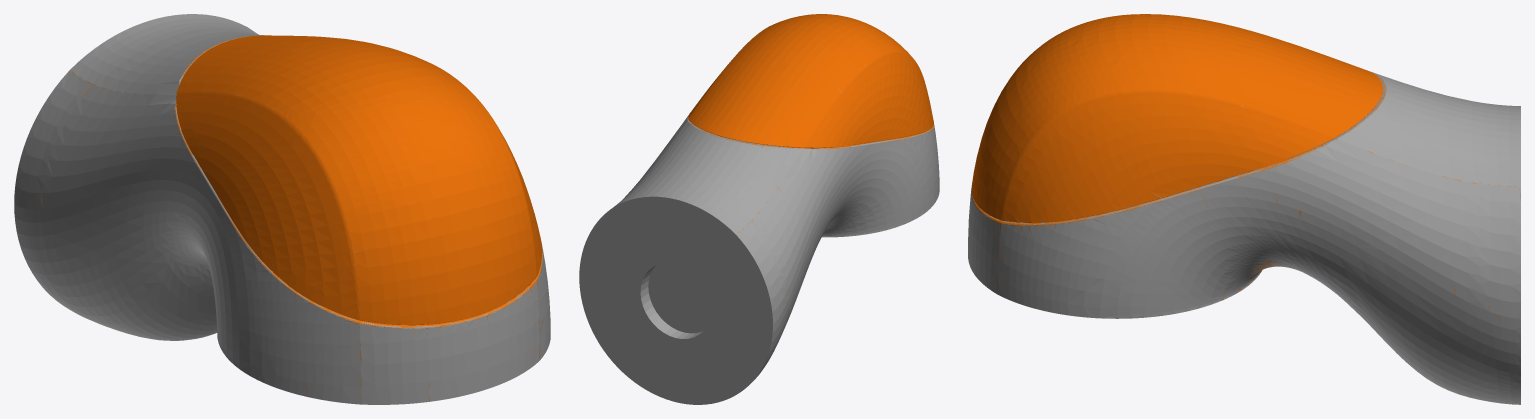
The picture shows the model from 3 angles, left to right: view 1: azimuth 30°, elevation 25°; view 2: azimuth 150°, elevation 25°; view 3: azimuth 270°, elevation 25°; orthographic projection. The views are drawn at different scales.
Parts seen in each view (by area): view 1: Link 2; view 2: Link 2; view 3: Link 2.
Part boxes in pixels (left/top/right/bottom): Link 2: left=14, top=14, right=550, bottom=404; Link 2: left=579, top=14, right=939, bottom=404; Link 2: left=968, top=14, right=1520, bottom=404.
Size of the model in its own units: 0.136 by 0.252 by 0.1826.
